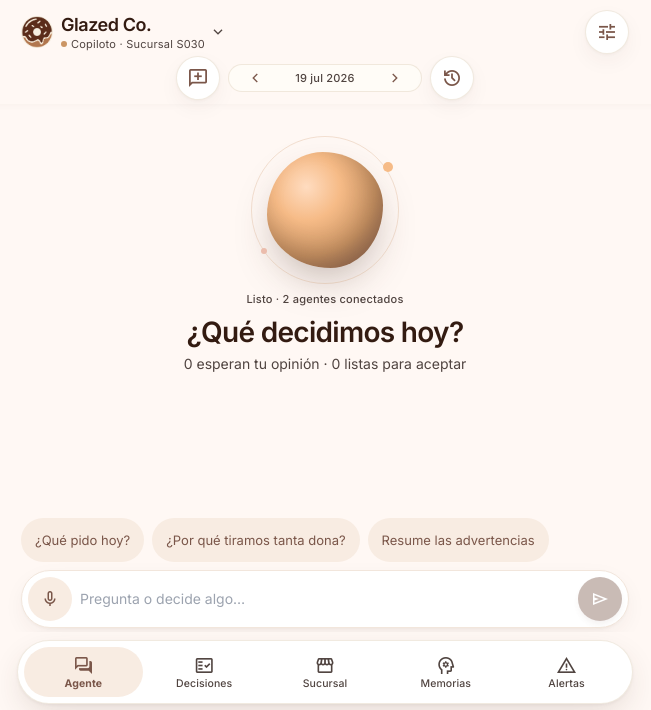
Test: Memorias window › lists the memories served by /memories with the design's filters, and the new ones are flagged
The image size is (651, 710).
Click the button "Memorias" at (446, 672), box [386,647,505,697]
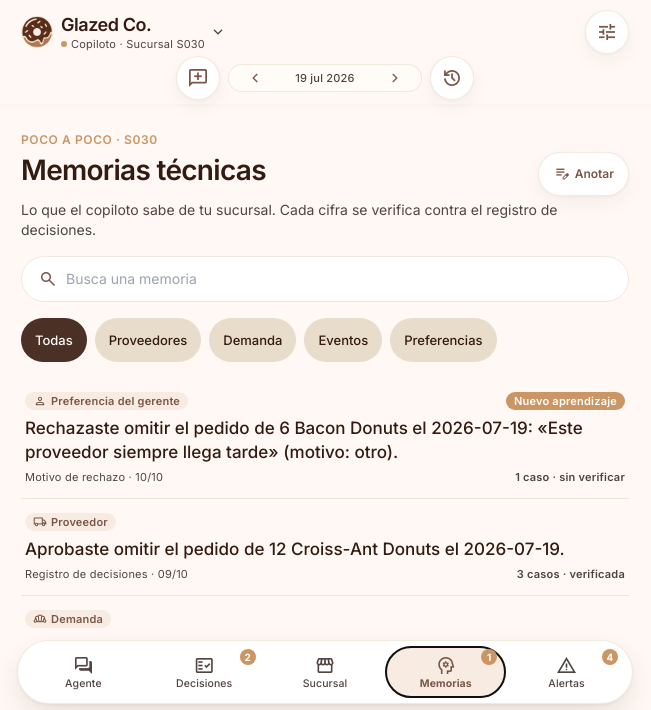
Expected: the heading "Memorias técnicas" is shown, [21,152,266,188]
Expected: the text "Aprobaste omitir el pedido de 12 Croiss-Ant Donuts" is shown, [25,539,565,559]
Expected: the text "Nuevo aprendizaje" is shown once, [506,392,625,410]
